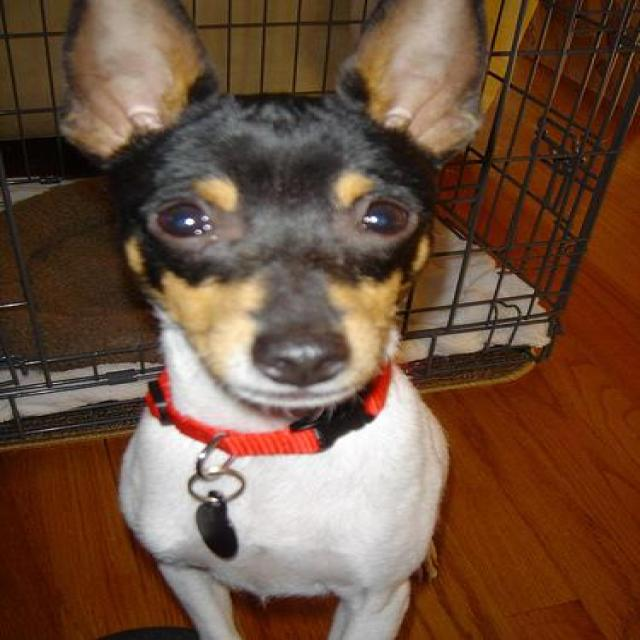toy_terrier: (61, 0, 491, 637)
